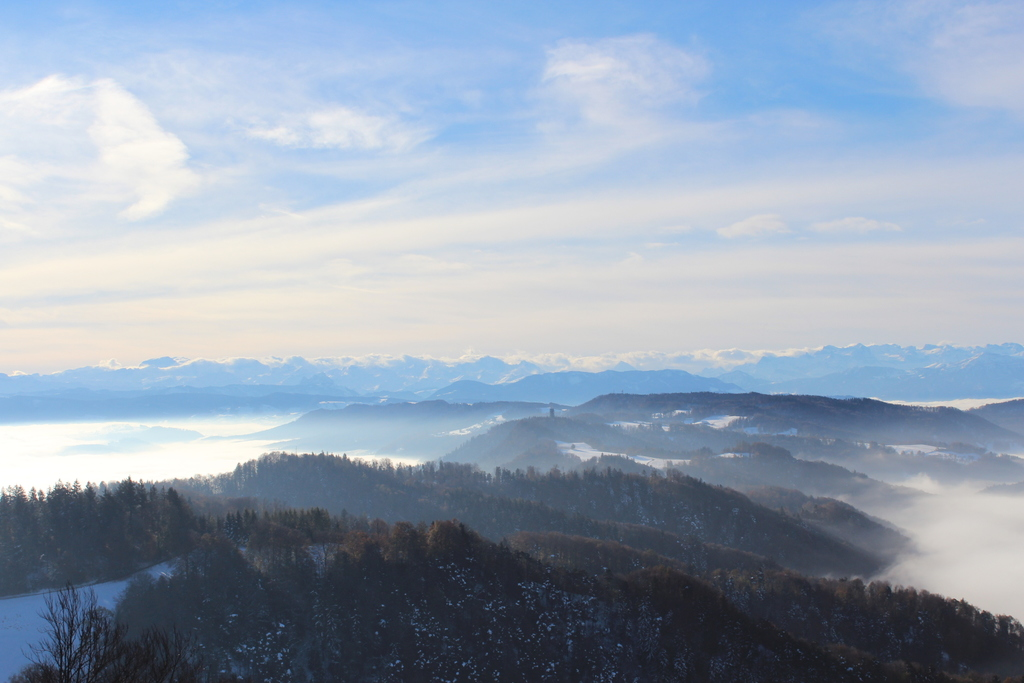Tree: (0, 473, 480, 647), (23, 576, 129, 682)
